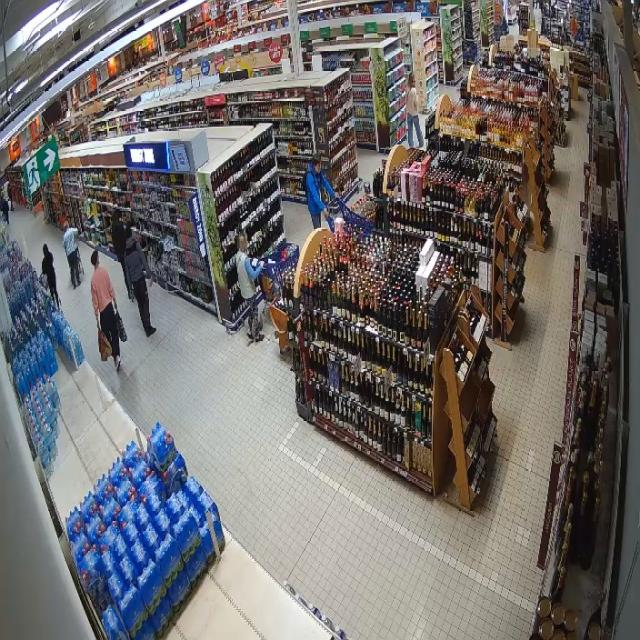bags: (99, 329, 112, 361), (116, 310, 127, 342), (303, 169, 311, 202), (39, 274, 48, 289)
hands: (96, 316, 100, 330), (260, 259, 265, 270), (113, 298, 117, 311), (323, 208, 328, 218), (149, 275, 153, 287), (335, 191, 341, 198)
person: (91, 251, 120, 371), (125, 227, 156, 336), (236, 234, 264, 342), (305, 156, 335, 228), (112, 212, 133, 299), (407, 74, 423, 147), (63, 222, 80, 288), (42, 244, 59, 307)
